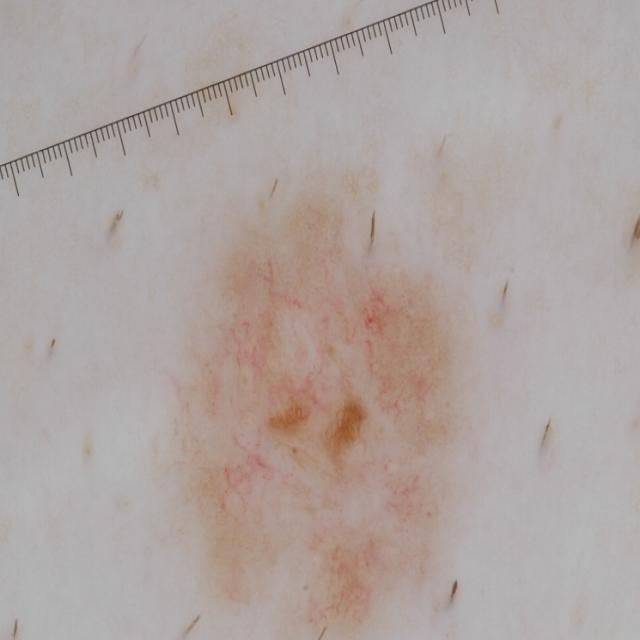Melanoma: (194, 224, 468, 640)
